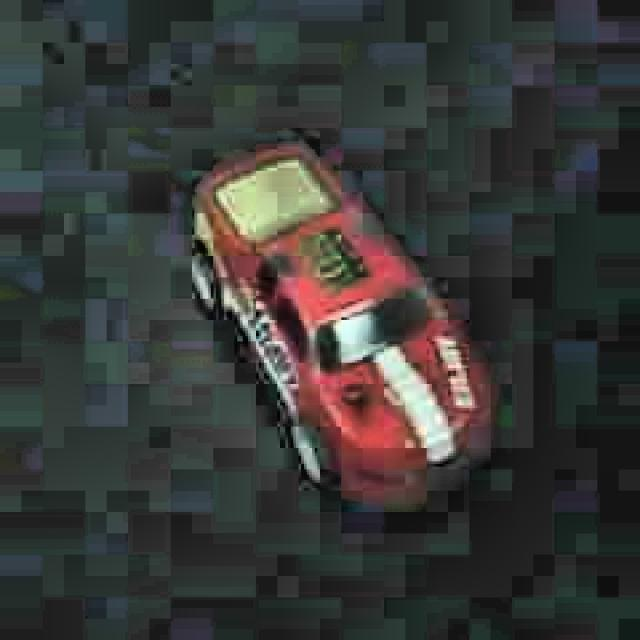car: (178, 132, 497, 514)
